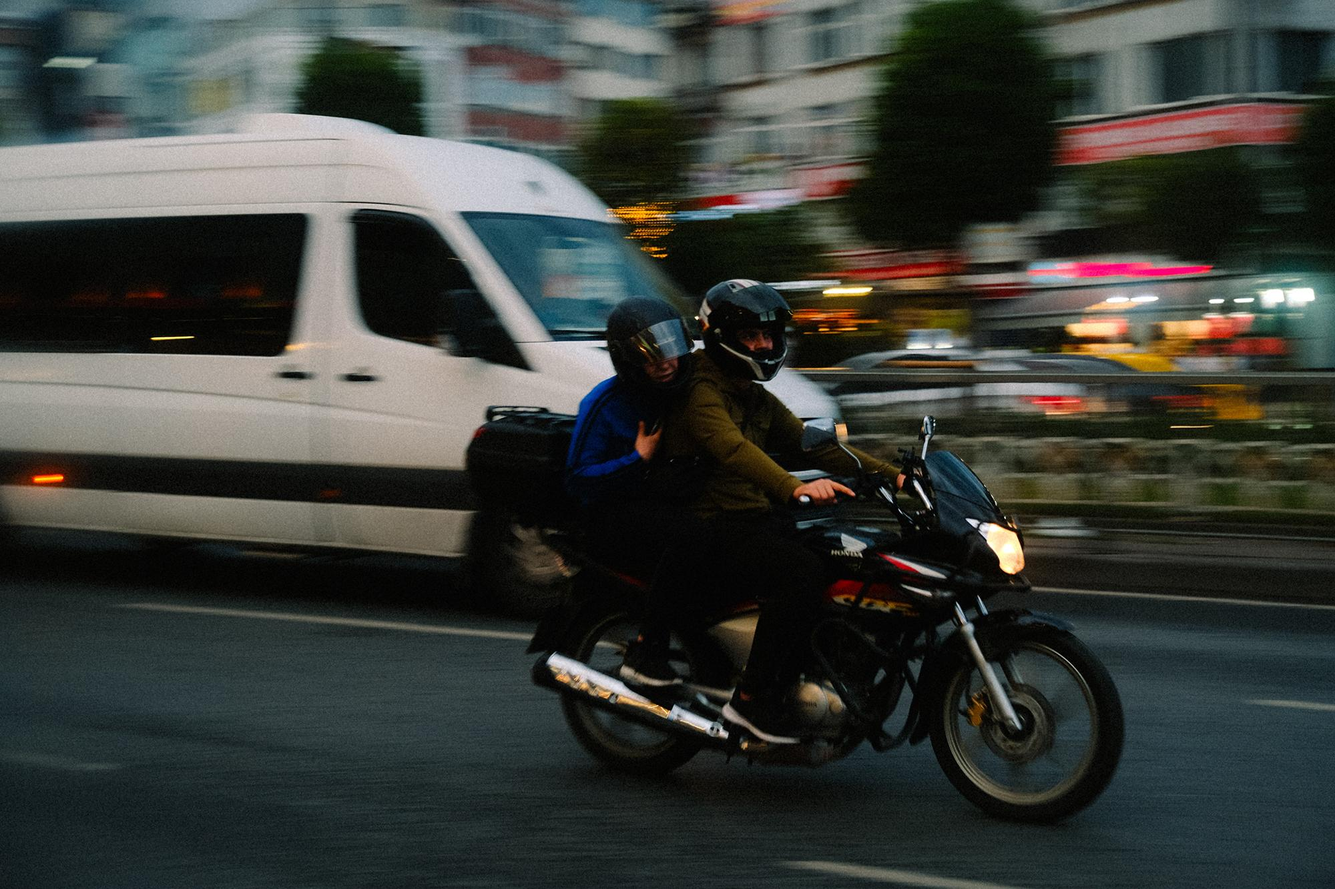helmet: (698, 278, 795, 385), (605, 294, 695, 400)
